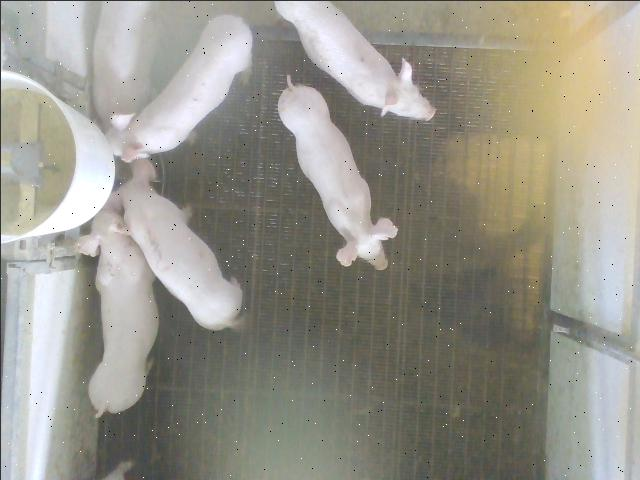pig-3: (115, 159, 241, 329)
